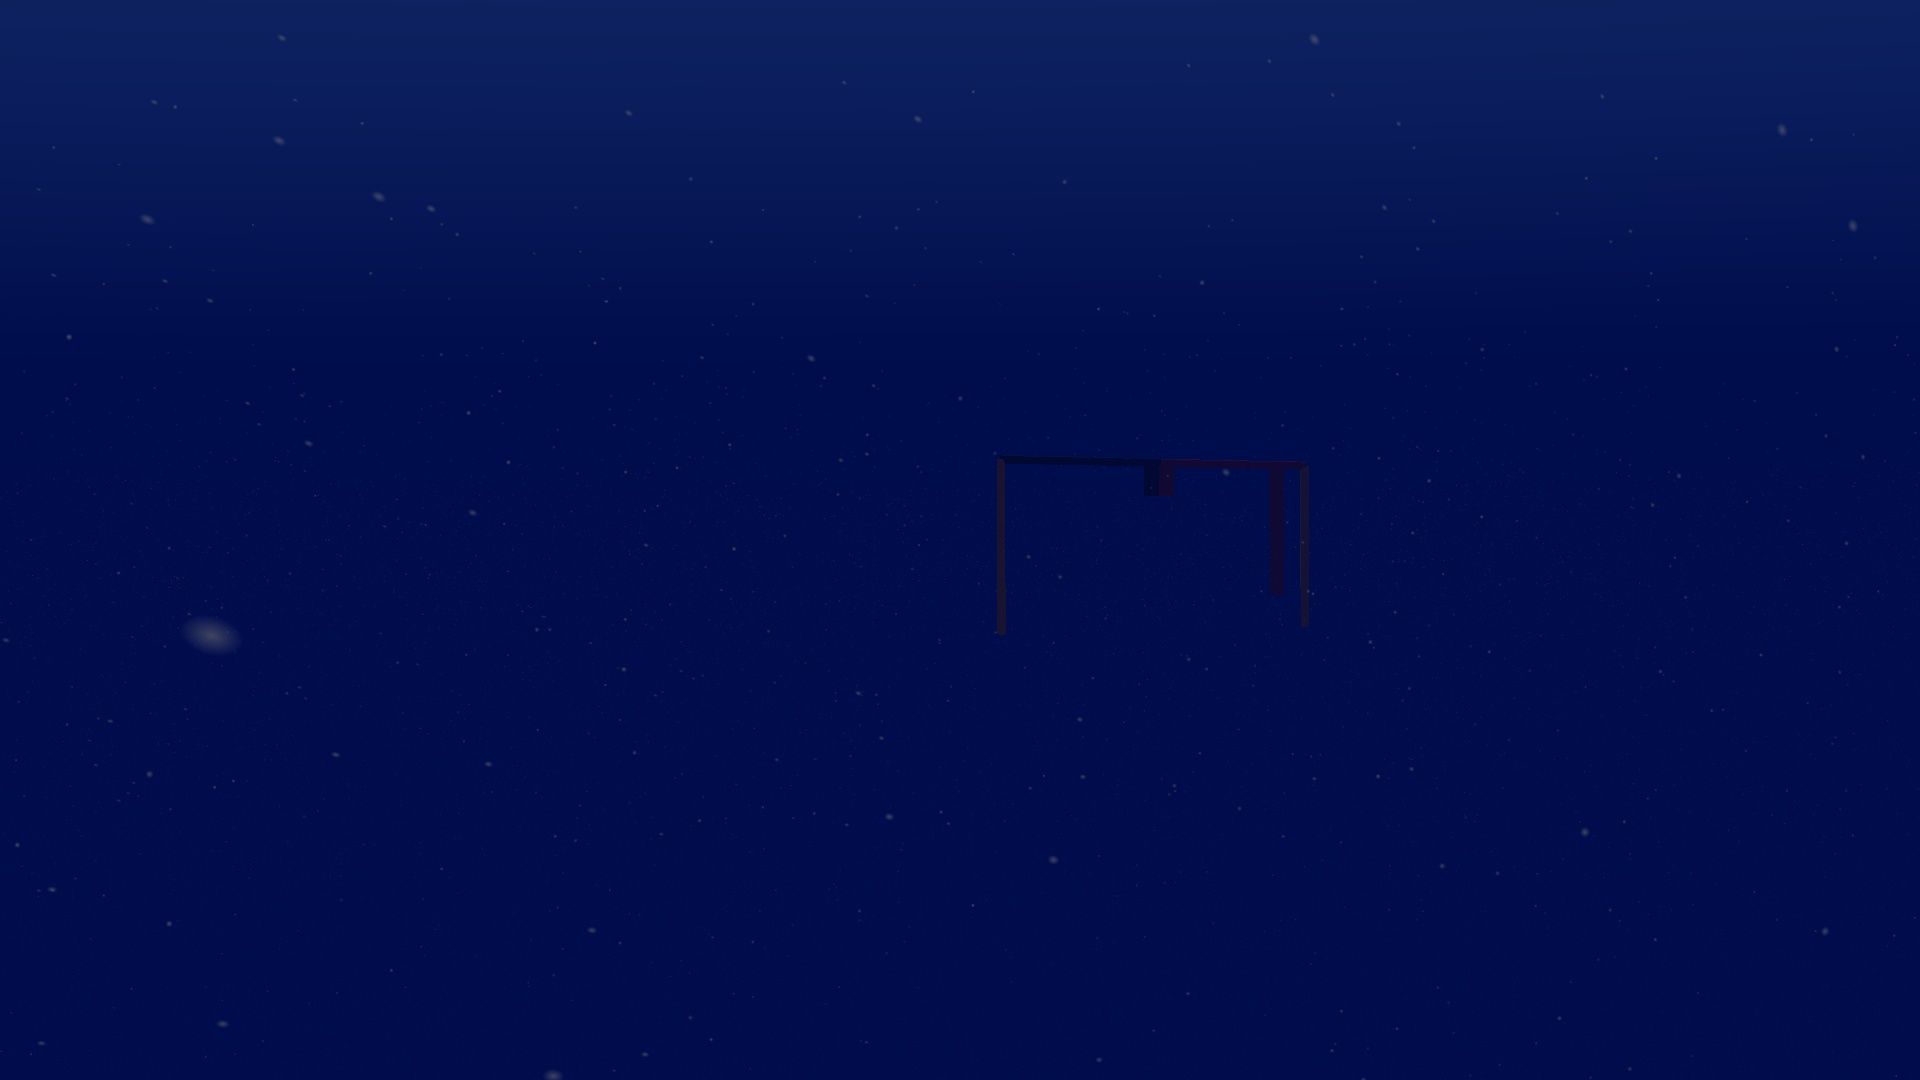Gate: (988, 450, 1327, 642)
